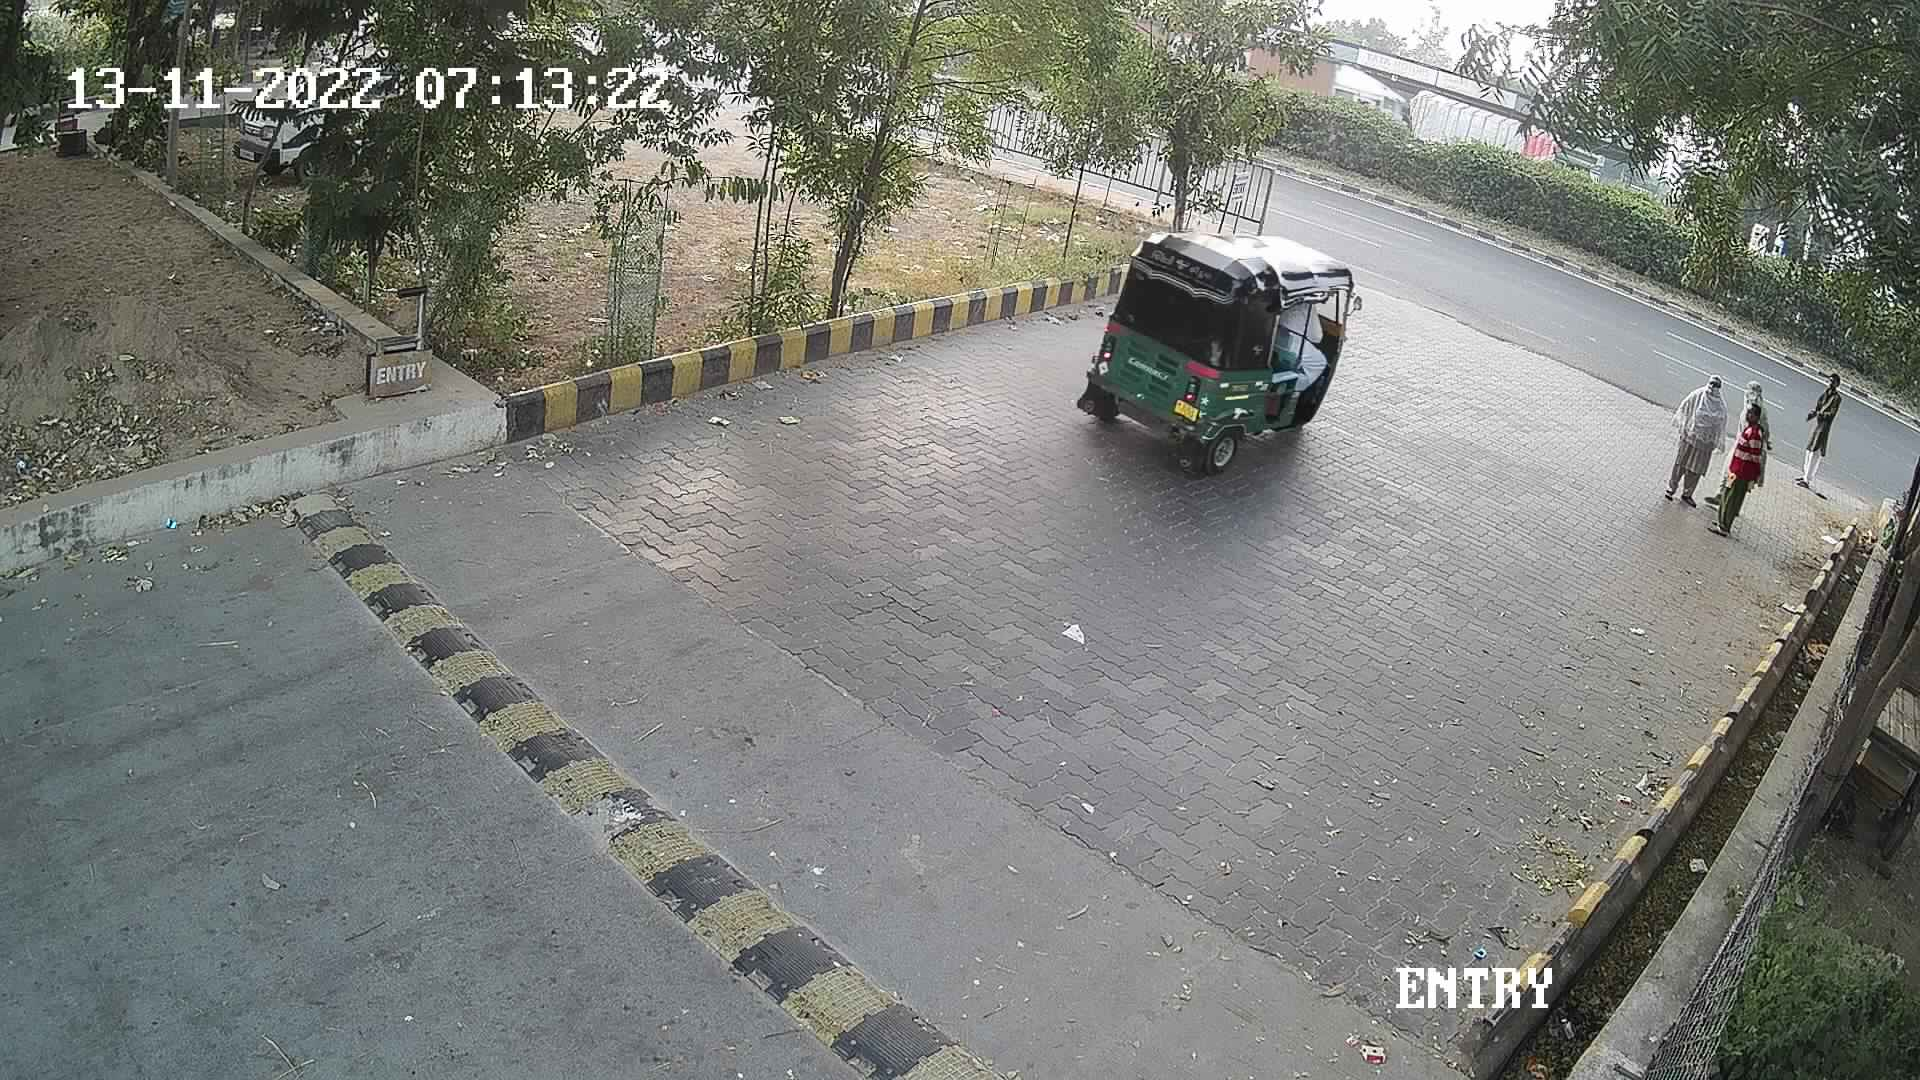Auto: (1072, 203, 1365, 485)
Car: (229, 47, 345, 189)
